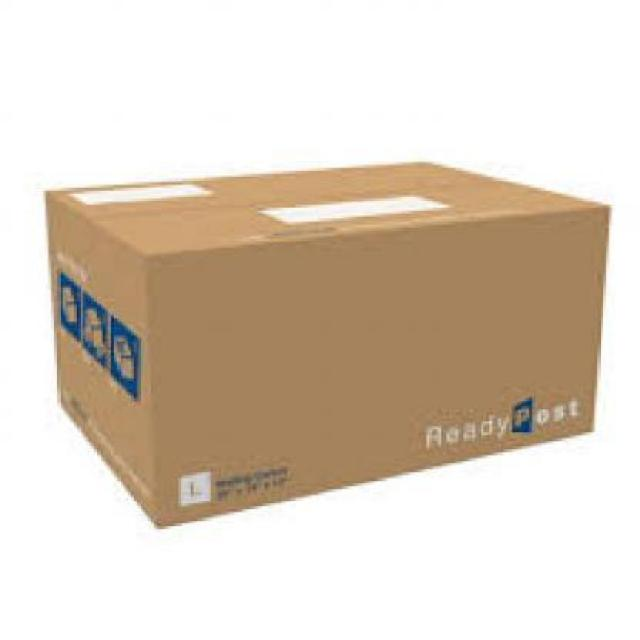box: (43, 160, 609, 525)
